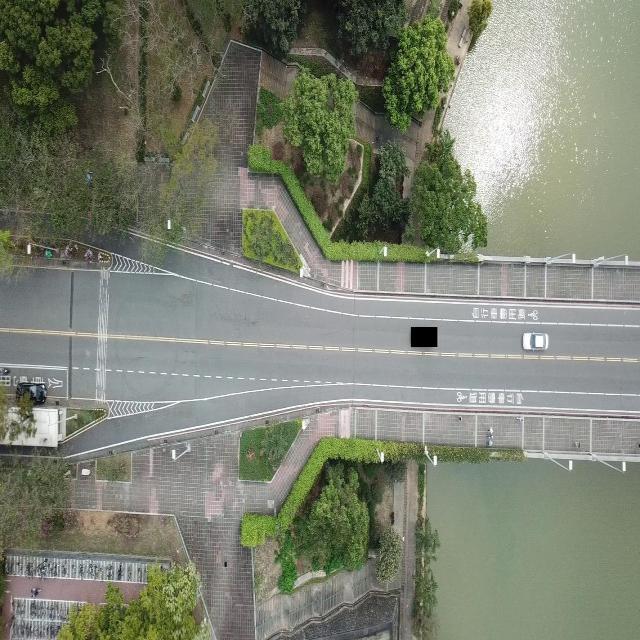car: (14, 380, 46, 404), (521, 329, 548, 352)
